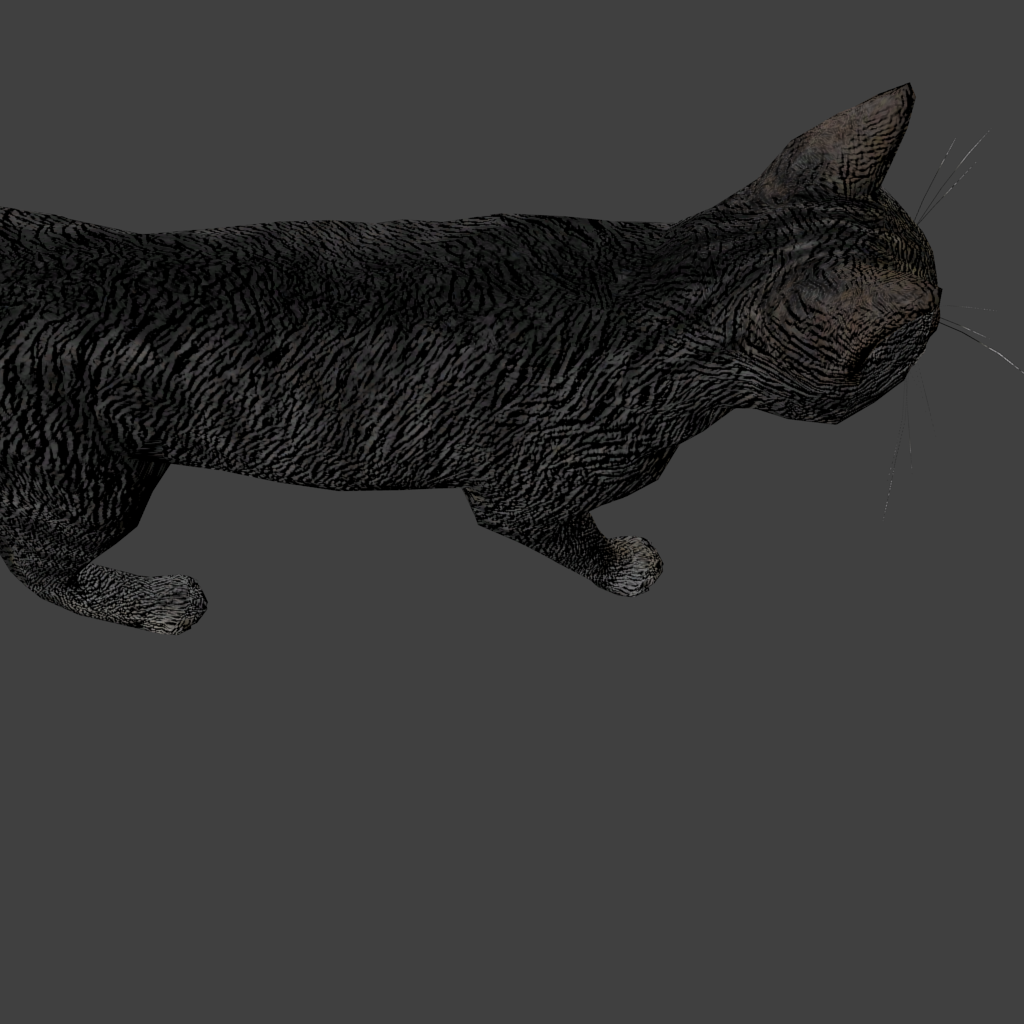Cat: (0, 0, 1024, 635)
